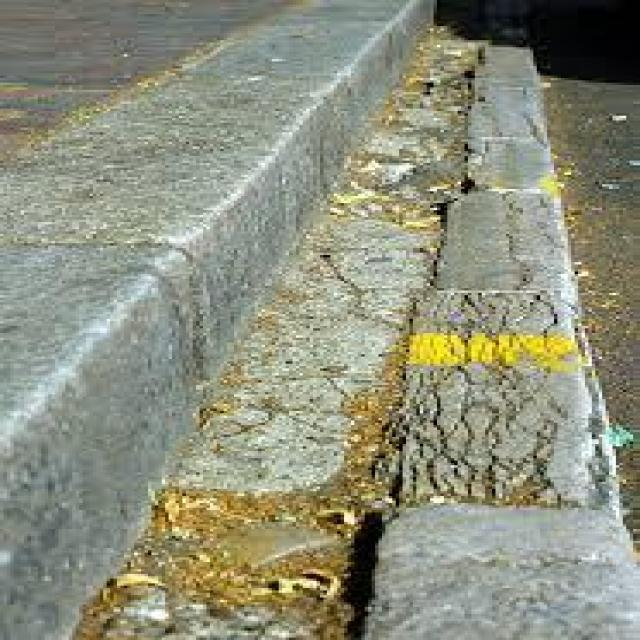curb: (1, 1, 437, 640), (369, 54, 640, 622)
